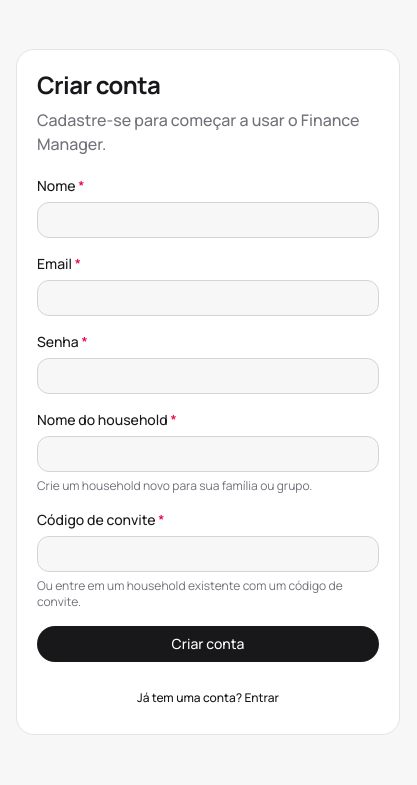
it: RegisterPage › blocks submit and shows inline errors when name, email, and password are empty
The image size is (417, 785).
Type "The Smiths" into the field labelled "Nome do household *" at (208, 454), box [37,436,379,472]
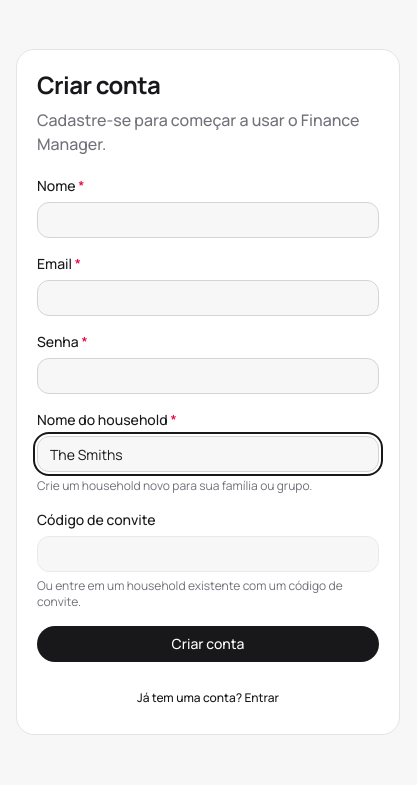
Click the button "Criar conta" at (208, 644), box [37,626,379,662]
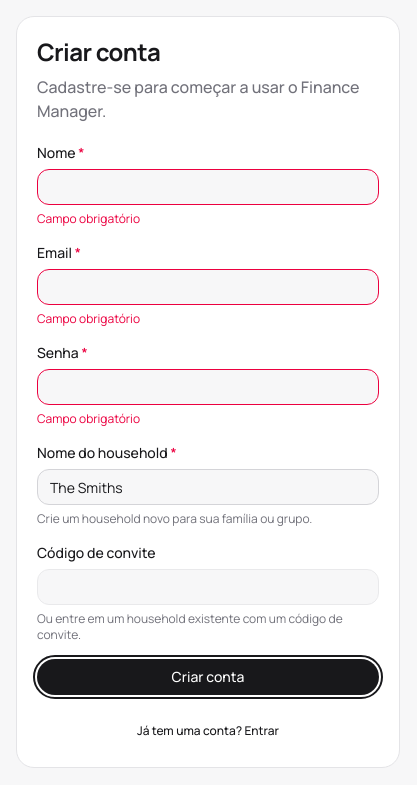
Now the text "Campo obrigatório" is shown 3 times, box [37,210,140,227]; [37,310,140,327]; [37,410,140,427]
